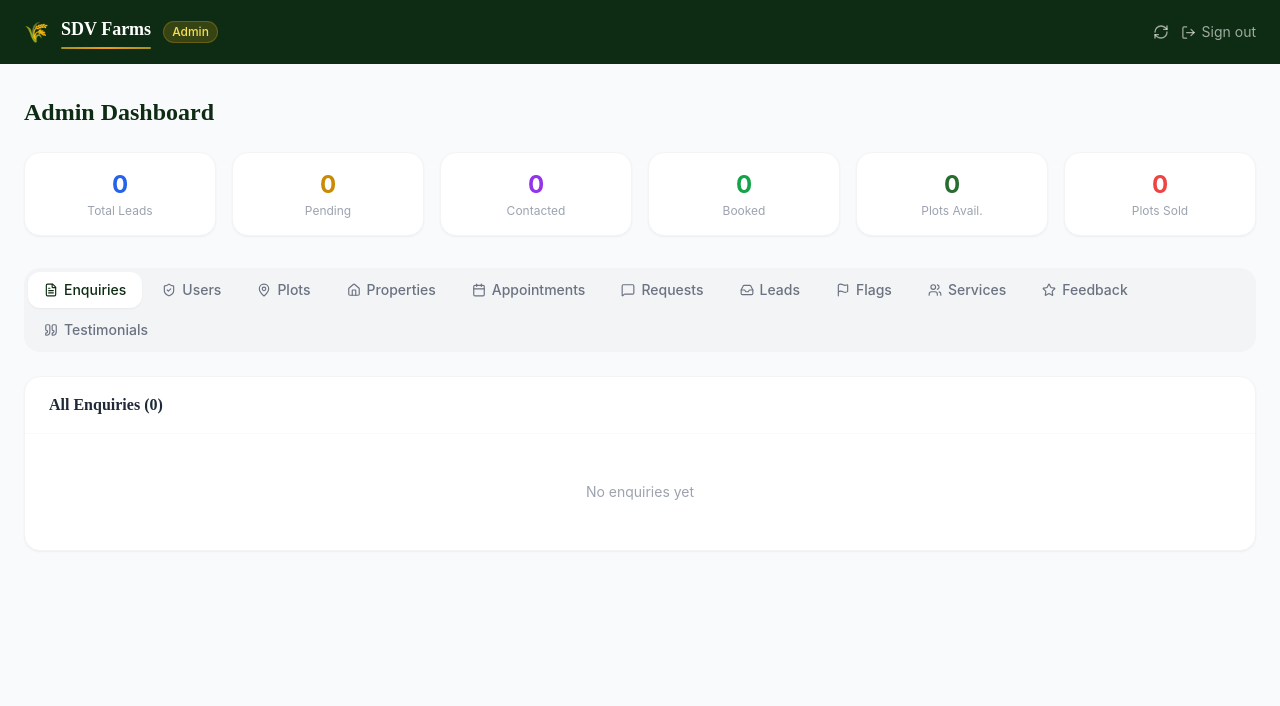
Test: AdminClient — Seller Properties › expands and collapses full listing details
Click the button "Properties" at (391, 290), box [330,272,452,308]
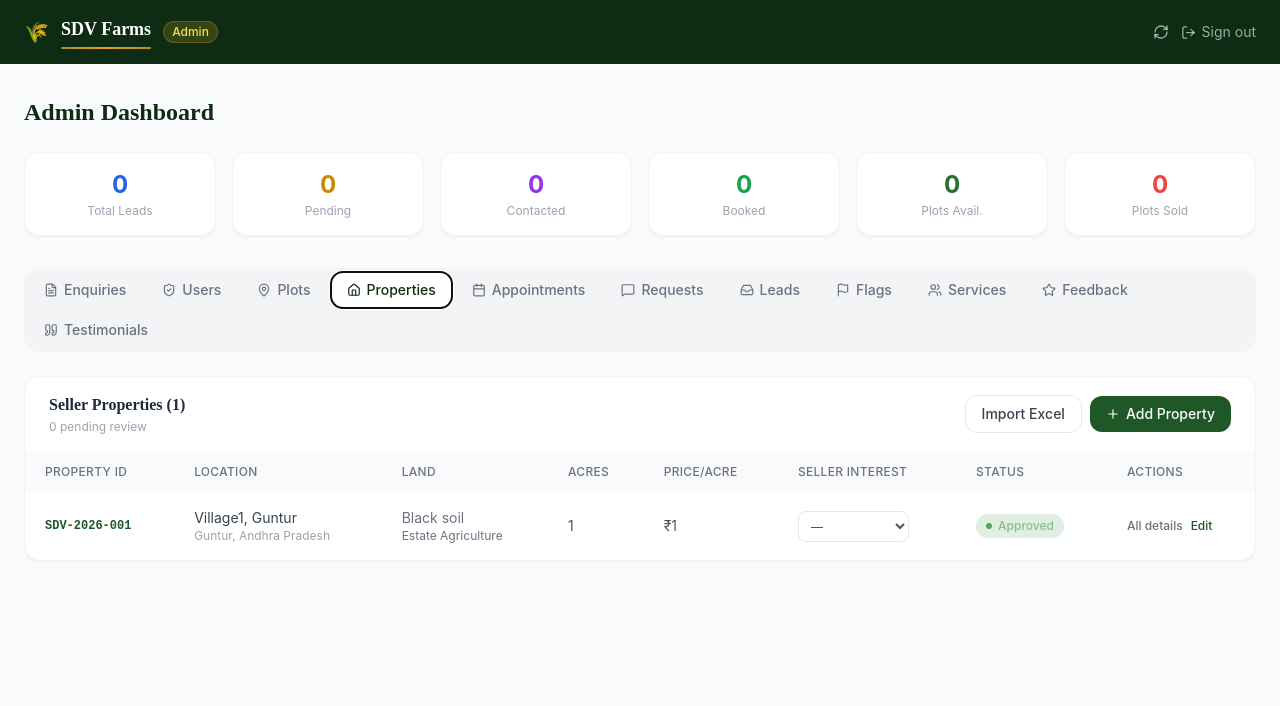
Check: the text "Full listing data" is not shown
Check: the heading "Seller Properties (1)" is shown, box [49,393,185,417]
Click the button "All details" at (1155, 526), box [1127,518,1183,534]
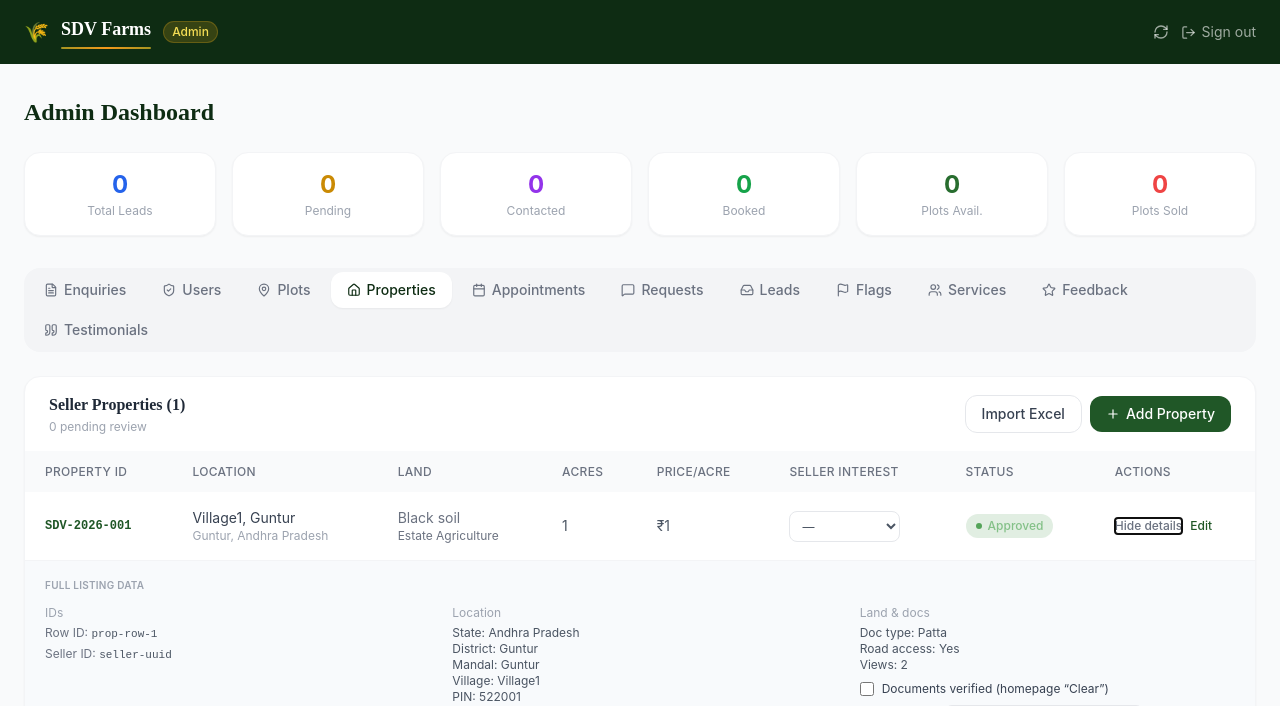
Check: the text "Full listing data" is shown, box [45,579,144,591]
Check: the button "Hide details" is shown
Check: the text "Row ID:" is shown, box [45,625,88,640]
Click the button "Hide details" at (1149, 526), box [1115,518,1182,534]
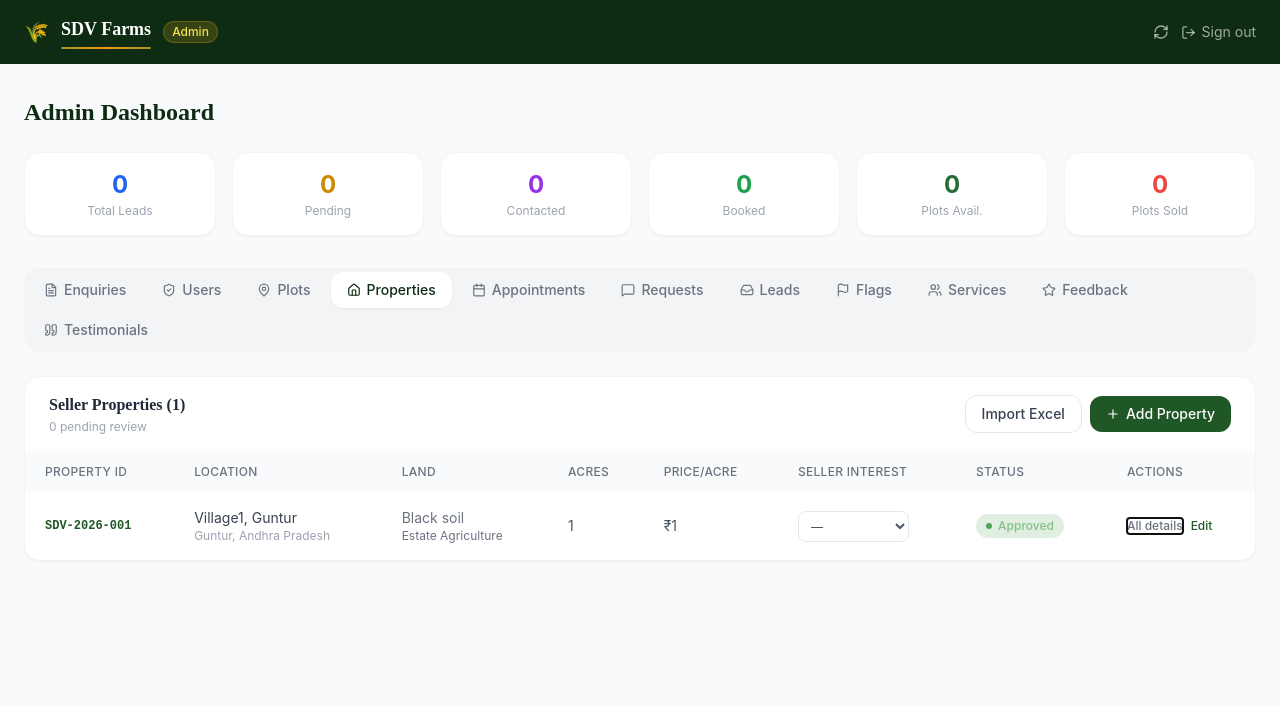
Check: the text "Full listing data" is gone
Check: the button "All details" is shown, box [1127,518,1183,534]
